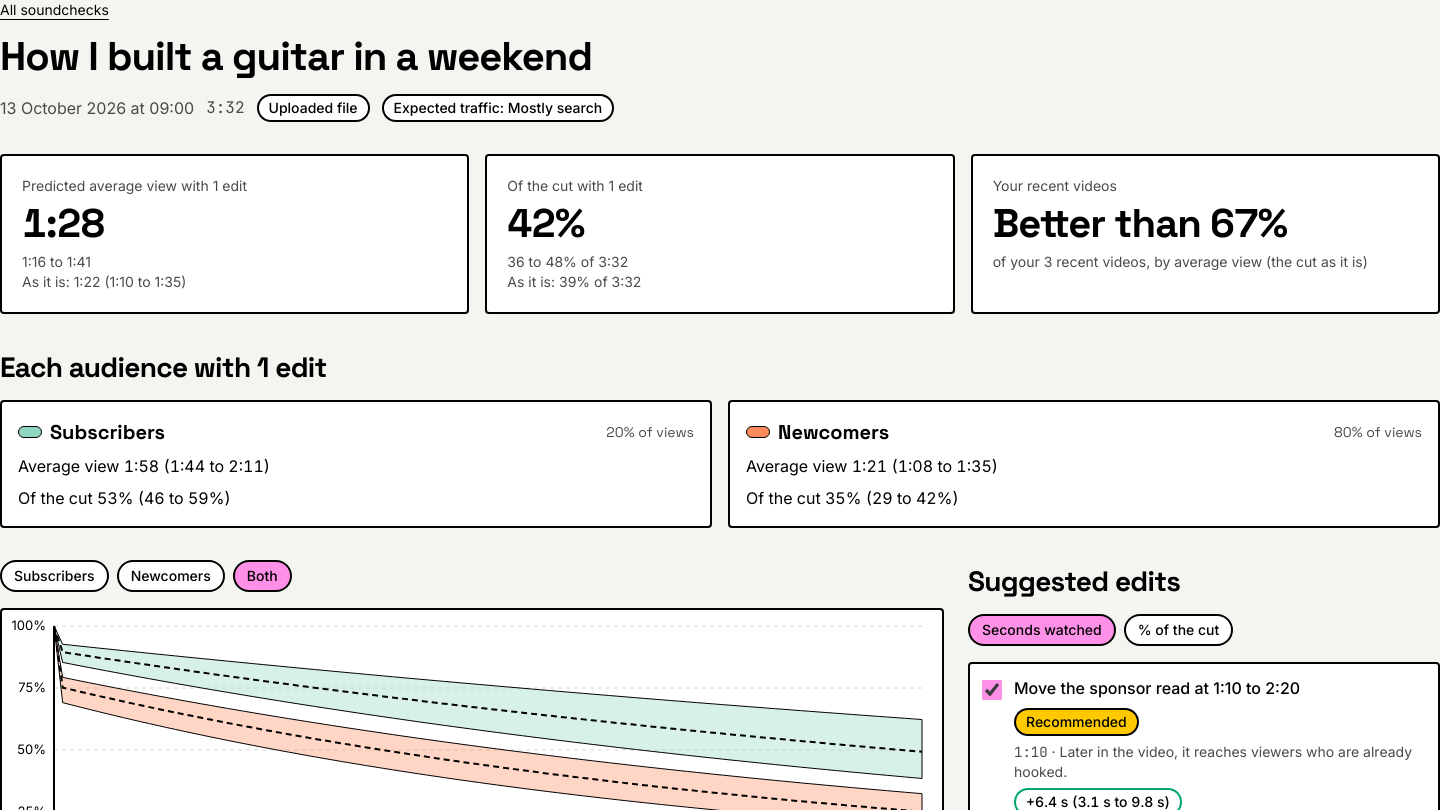
Scenario: SoundcheckView with edits › goes back to the cut as it is once nothing is ticked
Click the checkbox labelled "Move the sponsor read at 1:10 to 2:20 Recommended": {"x": 992, "y": 690} [982,680,1002,700]
Wait 500 ms
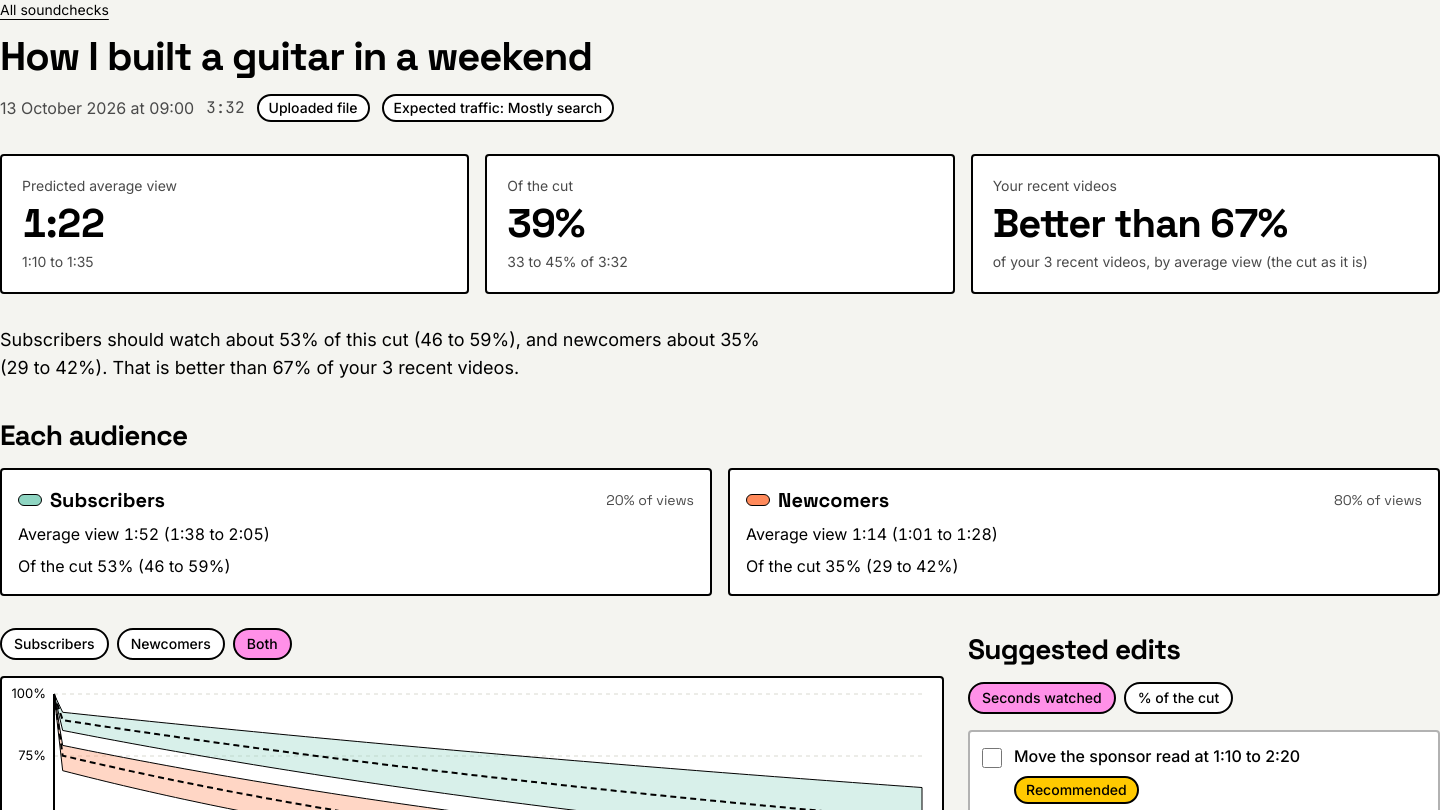
Expected: the text "Predicted average view" is shown, [22,177,177,194]
Expected: the text "Subscribers should watch about 53%" is shown, [0,329,760,378]
